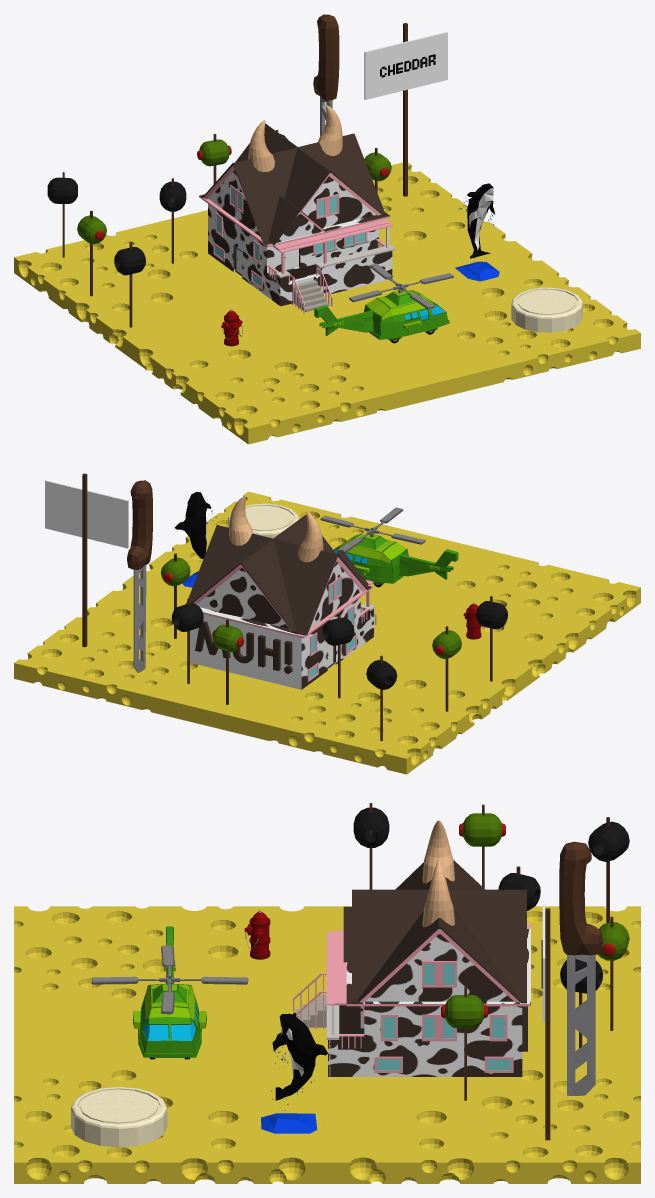
The picture shows the model from 3 angles, top to bottom: view 1: azimuth 30°, elevation 25°; view 2: azimuth 150°, elevation 25°; view 3: azimuth 270°, elevation 25°; orthographic projection. The views are drawn at different scales.
Visible parts, largest first — view 1: Cube.022, Cube.1242, VEHICLES_HELICOPTER, Cube.023, Cylinder.016, Cube.024, ANIMAL_ORCA, Sphere.017, Sphere.016, Sphere.020, Sphere.018, Sphere.022 (+1 smaller); view 2: Cube.022, Cube.1242, Cube.023, VEHICLES_HELICOPTER, Cube.024, ANIMAL_ORCA, Cylinder.016, Sphere.017, Sphere.020, Sphere.021, Sphere.016, Sphere.018 (+3 smaller); view 3: Cube.022, Cube.1242, Cube.024, VEHICLES_HELICOPTER, Cylinder.016, ANIMAL_ORCA, Cube.023, Sphere.019, Sphere.016, Sphere.018, Sphere.017, Sphere.022 (+3 smaller).
Part boxes in pixels (x1,y1,x2,y2): Cube.022: (14, 162, 640, 444); Cube.1242: (199, 105, 395, 313); VEHICLES_HELICOPTER: (314, 263, 454, 343); Cube.023: (364, 23, 447, 196); Cylinder.016: (511, 287, 582, 332); Cube.024: (313, 14, 339, 135); ANIMAL_ORCA: (455, 183, 499, 281); Sphere.017: (114, 242, 145, 327); Sphere.016: (47, 172, 77, 257); Sphere.020: (159, 178, 186, 263); Sphere.018: (77, 210, 106, 296); Sphere.022: (197, 134, 231, 183); Cube.022: (14, 491, 640, 774); Cube.1242: (185, 496, 376, 689); Cube.023: (45, 473, 128, 647); VEHICLES_HELICOPTER: (320, 507, 458, 587); Cube.024: (127, 480, 152, 672); ANIMAL_ORCA: (174, 492, 216, 587); Cylinder.016: (228, 503, 298, 538); Sphere.017: (476, 596, 507, 681); Sphere.020: (322, 612, 354, 698); Sphere.021: (171, 598, 203, 683); Sphere.016: (366, 655, 397, 741); Sphere.018: (432, 626, 461, 711); Cube.022: (14, 906, 640, 1183); Cube.1242: (292, 820, 530, 1076); Cube.024: (559, 841, 602, 1095); VEHICLES_HELICOPTER: (91, 926, 248, 1059); Cylinder.016: (71, 1086, 167, 1147); ANIMAL_ORCA: (261, 1012, 327, 1133); Cube.023: (541, 904, 550, 1140); Sphere.019: (441, 986, 487, 1100); Sphere.016: (588, 817, 629, 922); Sphere.018: (459, 804, 505, 888); Sphere.017: (353, 803, 389, 889); Sphere.022: (598, 916, 629, 1030).
Bounding box in the file's own units: 3917 × 2108 × 4000.
Materials: 37 (3 with a texture image).
